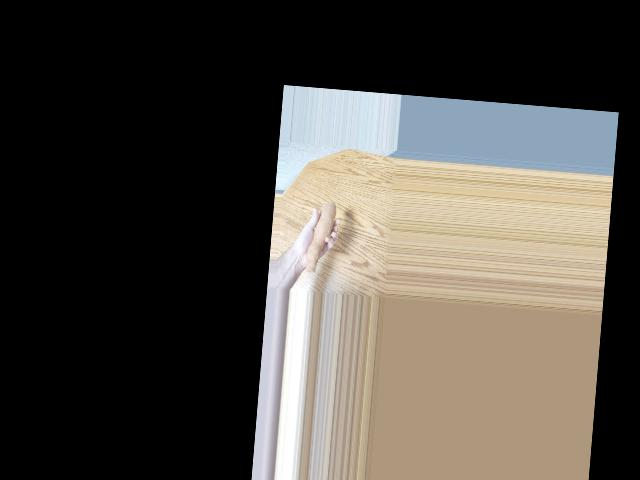sweet_potato: (304, 198, 337, 272)
